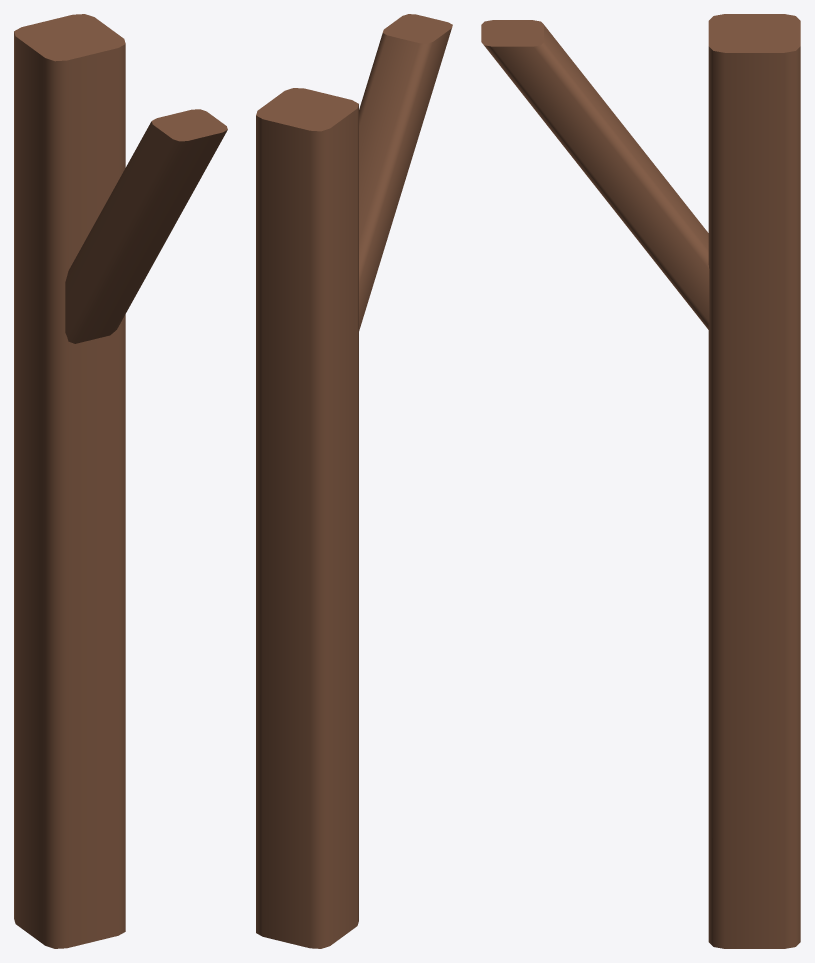
The model's file is Pillar_2.fbx.
3 views of the same model, side by side, from view 1: azimuth 30°, elevation 25°; view 2: azimuth 150°, elevation 25°; view 3: azimuth 270°, elevation 25° (orthographic). The views are drawn at different scales.
Parts seen in each view (by area): view 1: Pillar_2; view 2: Pillar_2; view 3: Pillar_2.
Boxes of the visible parts, left/top/right/bottom form: Pillar_2: left=14, top=14, right=227, bottom=948; Pillar_2: left=256, top=14, right=452, bottom=948; Pillar_2: left=481, top=14, right=800, bottom=948.
Bounding box in the file's own units: 0.1618 × 1.74 × 0.5619.
